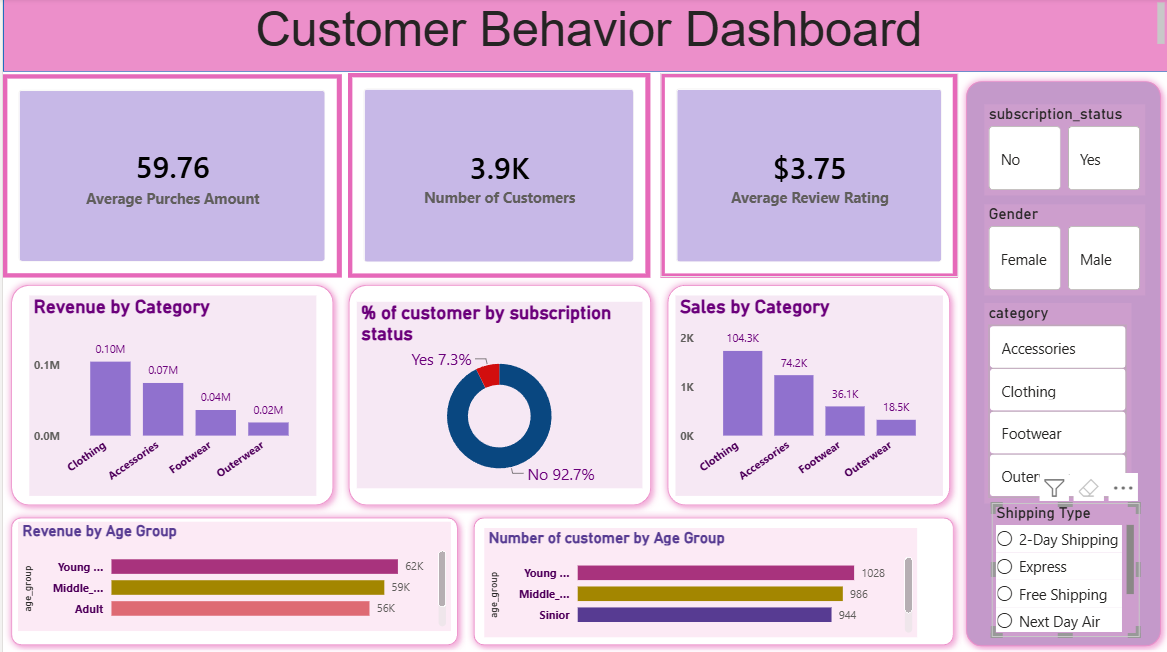

The dashboard page shown, as its layout file describes it:
{"tool":"powerbi","page":{"name":"Page 1","canvas":[1280,720],"ordinal":0},"visuals":[{"type":"cardVisual","fields":{"Data":["customer_behavior_analysis_db customer_data.Number of Customers"]},"box":[378.3,81.7,331.7,225],"z":0},{"type":"cardVisual","fields":{"Data":["customer_behavior_analysis_db customer_data.Average Review Rating"]},"box":[721.7,81.7,326.7,225],"z":1000},{"type":"cardVisual","fields":{"Data":["customer_behavior_analysis_db customer_data.Average Purches Amount"]},"box":[0,83.3,371.7,223.3],"z":2000},{"type":"shape","box":[0,0,1280.3,81.2],"z":3000},{"type":"textbox","box":[0,0,1280.3,62.5],"z":4000},{"type":"shape","box":[0,306.7,371.7,260],"z":5000},{"type":"shape","box":[370,306.7,350,260],"z":6000},{"type":"shape","box":[720,306.7,328.3,260],"z":7000},{"type":"clusteredColumnChart","title":"Revenue by Category","fields":{"Y":["Sum(customer_behavior_analysis_db customer_data.purchase_amount)"],"Category":["customer_behavior_analysis_db customer_data.category"]},"box":[28.3,326.7,315,220],"z":8000},{"type":"clusteredColumnChart","title":"Sales by Category","fields":{"Category":["customer_behavior_analysis_db customer_data.category"],"Y":["CountNonNull(customer_behavior_analysis_db customer_data.customer_id)"]},"box":[738.3,326.7,293.3,220],"z":9000},{"type":"shape","box":[1048.3,81.7,231.7,638.3],"z":10000},{"type":"advancedSlicerVisual","fields":{"Values":["customer_behavior_analysis_db customer_data.subscription_status"]},"box":[1076.7,116.7,176.7,100],"z":11000},{"type":"advancedSlicerVisual","fields":{"Values":["customer_behavior_analysis_db customer_data.category"]},"box":[1076.7,335,161.7,220],"z":12000},{"type":"listSlicer","title":"Shipping Type","fields":{"Values":["customer_behavior_analysis_db customer_data.shipping_type"]},"box":[1085,555,161.7,146.7],"z":13000},{"type":"shape","box":[0,561.7,508.3,158.3],"z":14000},{"type":"donutChart","title":"% of customer by subscription status","fields":{"Category":["customer_behavior_analysis_db customer_data.subscription_status"],"Y":["Sum(customer_behavior_analysis_db customer_data.customer_id)"]},"box":[388.3,333.3,313.3,205],"z":15000},{"type":"clusteredBarChart","title":"Revenue by Age Group","fields":{"Y":["Sum(customer_behavior_analysis_db customer_data.purchase_amount)"],"Category":["customer_behavior_analysis_db customer_data.age_group"]},"box":[16.7,575,475,120],"z":16000},{"type":"shape","box":[508.3,561.7,545,158.3],"z":17000},{"type":"clusteredBarChart","title":"Number of customer by Age Group","fields":{"Y":["CountNonNull(customer_behavior_analysis_db customer_data.customer_id)"],"Category":["customer_behavior_analysis_db customer_data.age_group"]},"box":[528.3,581.7,475,120],"z":18000},{"type":"advancedSlicerVisual","title":"Gender","fields":{"Values":["customer_behavior_analysis_db customer_data.gender"]},"box":[1076.7,226.7,176.7,100],"z":19000}]}

Visuals, with their boxes in screenshot pixels (x1, y1, x2, y2), scaled from the page's 1280x720 canvas onto the 1167x652 screenshot:
cardVisual - customer_behavior_analysis_db customer_data.Number of Customers: <box>345,74,647,278</box>
cardVisual - customer_behavior_analysis_db customer_data.Average Review Rating: <box>658,74,956,278</box>
cardVisual - customer_behavior_analysis_db customer_data.Average Purches Amount: <box>0,75,339,278</box>
shape: <box>0,0,1166,74</box>
textbox: <box>0,0,1166,57</box>
shape: <box>0,278,339,513</box>
shape: <box>337,278,656,513</box>
shape: <box>656,278,956,513</box>
"Revenue by Category" clusteredColumnChart: <box>26,296,313,495</box>
"Sales by Category" clusteredColumnChart: <box>673,296,941,495</box>
shape: <box>956,74,1166,651</box>
advancedSlicerVisual - customer_behavior_analysis_db customer_data.subscription_status: <box>982,106,1143,196</box>
advancedSlicerVisual - customer_behavior_analysis_db customer_data.category: <box>982,303,1129,503</box>
"Shipping Type" listSlicer: <box>989,503,1137,635</box>
shape: <box>0,509,463,651</box>
"% of customer by subscription status" donutChart: <box>354,302,640,487</box>
"Revenue by Age Group" clusteredBarChart: <box>15,521,448,629</box>
shape: <box>463,509,960,651</box>
"Number of customer by Age Group" clusteredBarChart: <box>482,527,915,635</box>
"Gender" advancedSlicerVisual: <box>982,205,1143,296</box>
